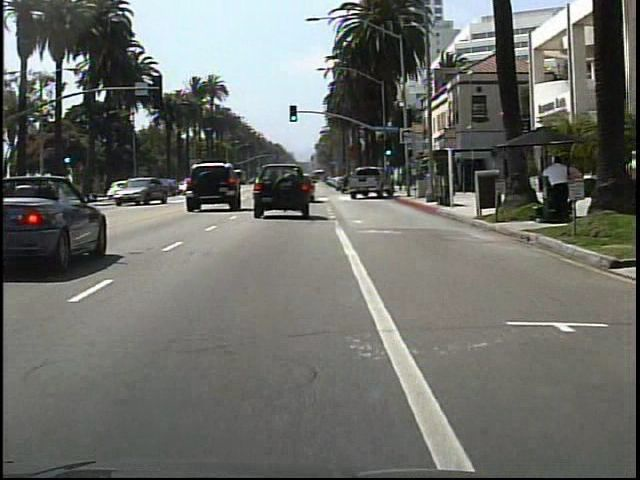person: (540, 153, 568, 226), (563, 154, 588, 226)
